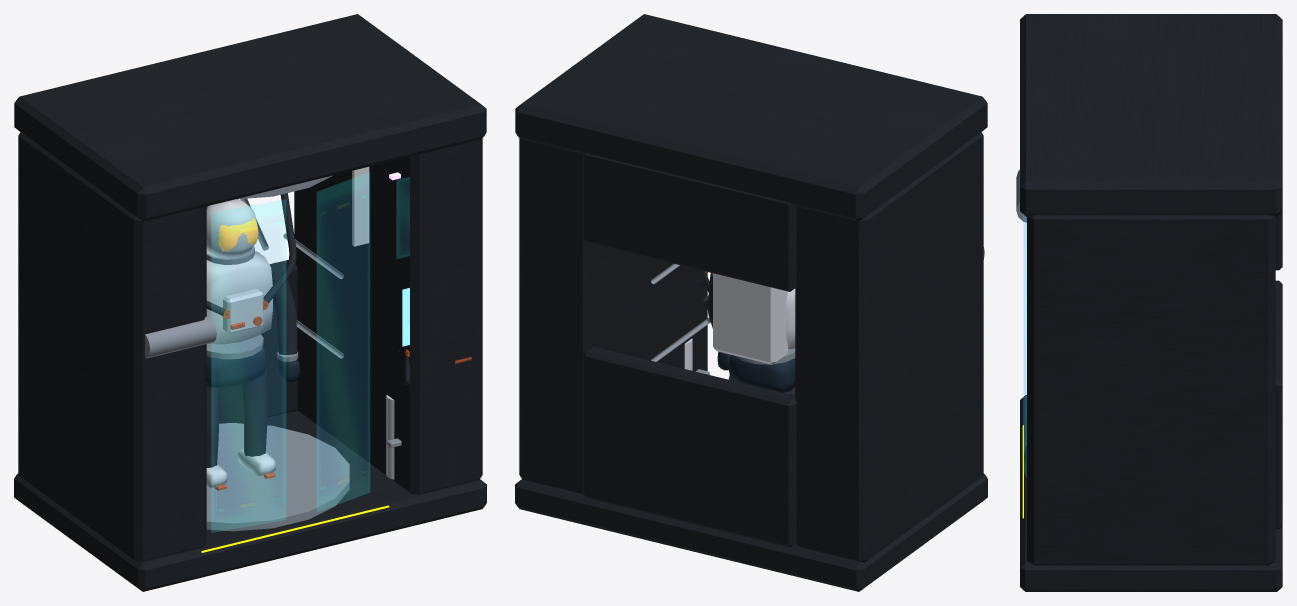
File: eva_chamber_r1_03.glb
The picture shows the model from 3 angles, left to right: view 1: azimuth 30°, elevation 25°; view 2: azimuth 150°, elevation 25°; view 3: azimuth 270°, elevation 25°; orthographic projection.
Visible parts, largest first — view 1: EVA03_RotaryCarouselGunmetalHull, EVA03_RevolvingDrumTranslucentPanes, EVA03_CarouselDrumRingsAndWinch, EVA03_WhiteSuitAndTanks, EVA03_CharcoalSleevesAndTethers, EVA03_NavyTetherPack, EVA03_GoldIridiumVisors; view 2: EVA03_RotaryCarouselGunmetalHull, EVA03_WhiteSuitAndTanks, EVA03_NavyTetherPack, EVA03_CarouselDrumRingsAndWinch; view 3: EVA03_RotaryCarouselGunmetalHull, EVA03_RevolvingDrumTranslucentPanes.
Boxes of the visible parts, <box> form: EVA03_RotaryCarouselGunmetalHull: <box>14,14,486,591</box>; EVA03_RevolvingDrumTranslucentPanes: <box>212,173,409,532</box>; EVA03_CarouselDrumRingsAndWinch: <box>145,175,401,531</box>; EVA03_WhiteSuitAndTanks: <box>206,166,394,487</box>; EVA03_CharcoalSleevesAndTethers: <box>206,193,410,467</box>; EVA03_NavyTetherPack: <box>206,346,299,387</box>; EVA03_GoldIridiumVisors: <box>218,217,258,251</box>; EVA03_RotaryCarouselGunmetalHull: <box>515,14,987,591</box>; EVA03_WhiteSuitAndTanks: <box>684,273,795,370</box>; EVA03_NavyTetherPack: <box>717,351,795,392</box>; EVA03_CarouselDrumRingsAndWinch: <box>651,247,984,374</box>; EVA03_RotaryCarouselGunmetalHull: <box>1020,14,1282,591</box>; EVA03_RevolvingDrumTranslucentPanes: <box>1023,215,1026,476</box>.
Bounding box in the file's own units: 2.3 × 2.55 × 1.5.
12 materials, 12 textured.
